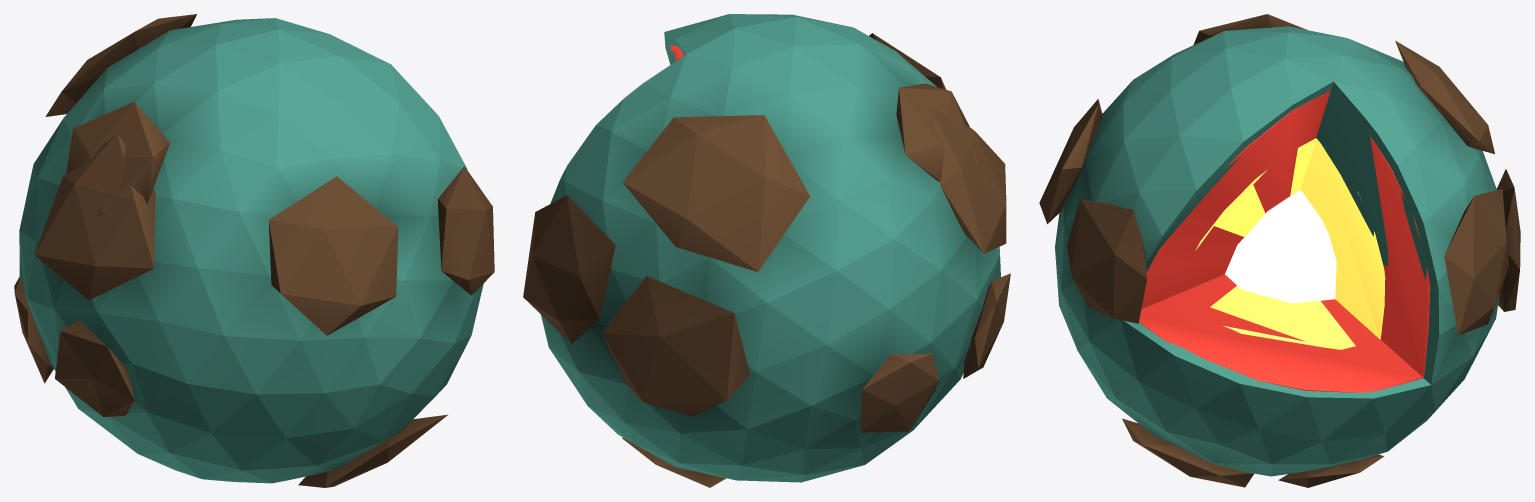
The model's file is find_core.glb.
3 views of the same model, side by side, from view 1: azimuth 30°, elevation 25°; view 2: azimuth 150°, elevation 25°; view 3: azimuth 270°, elevation 25° (orthographic). The views are drawn at different scales.
Visible parts, largest first — view 1: Core; view 2: Core; view 3: Core.
Boxes of the visible parts, left/top/right/bottom form: Core: left=14, top=14, right=494, bottom=487; Core: left=523, top=14, right=1010, bottom=487; Core: left=1039, top=14, right=1520, bottom=487.
Bounding box in the file's own units: 0.6098 × 0.6078 × 0.6388.
